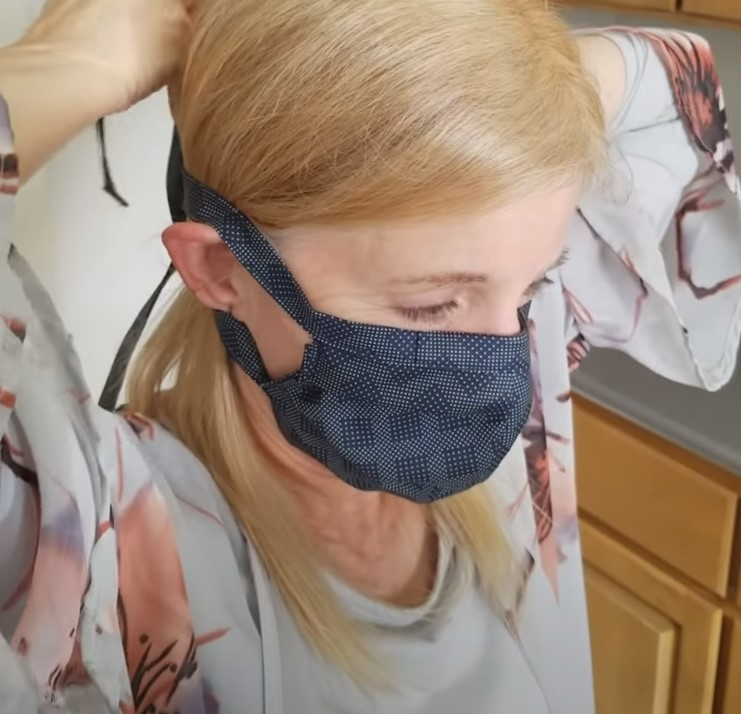face_with_mask: (156, 0, 600, 501)
